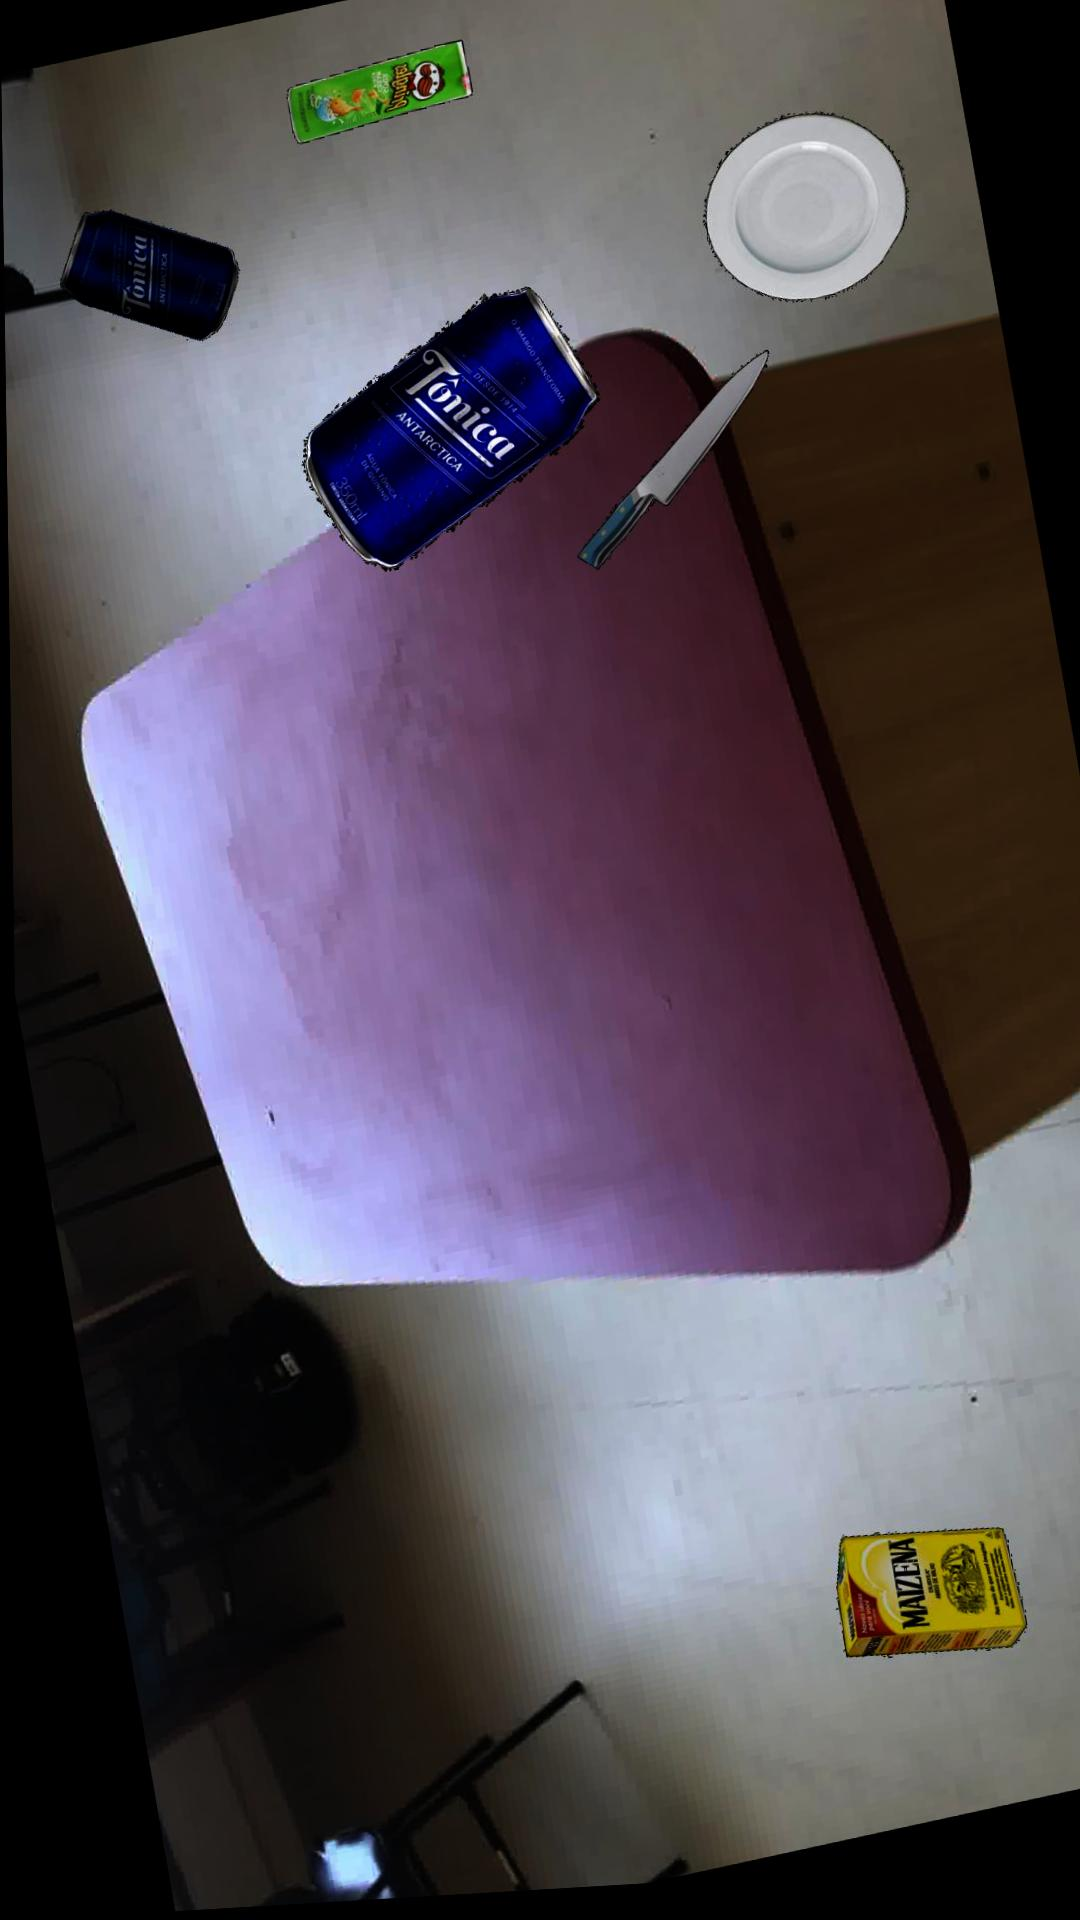knife: (575, 357, 767, 574)
plate: (702, 120, 906, 309)
pringles: (286, 42, 472, 145)
tonic: (302, 290, 599, 574), (59, 208, 237, 340)
